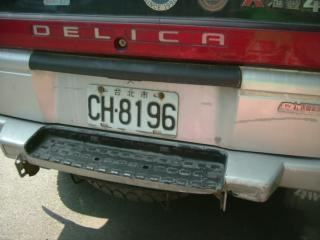plate: (84, 82, 181, 138)
